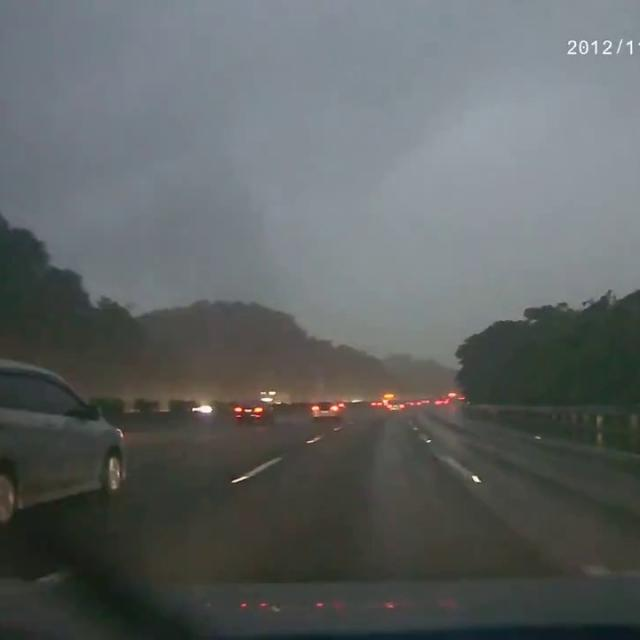Car: (0, 353, 129, 523), (233, 398, 274, 425), (310, 400, 343, 419), (384, 397, 405, 412)
